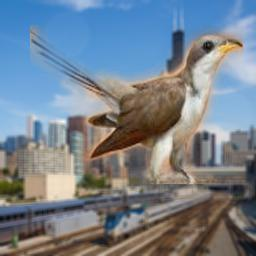Cuckoo: (30, 25, 243, 184)
